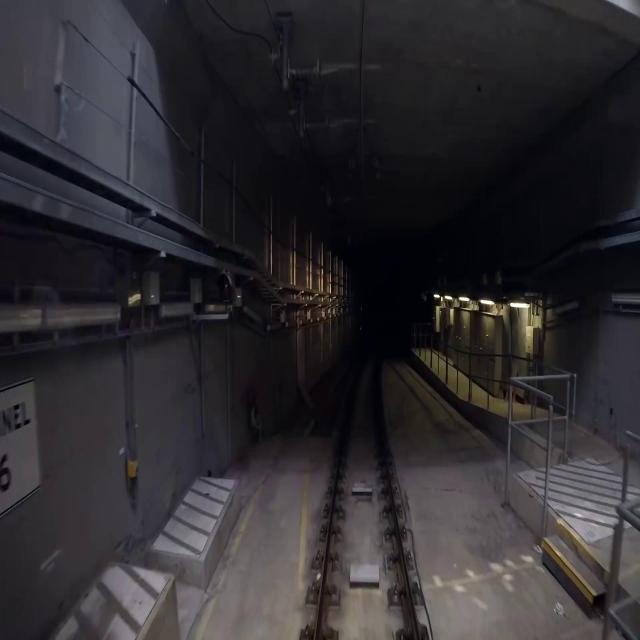rail-track: (317, 351, 417, 639)
